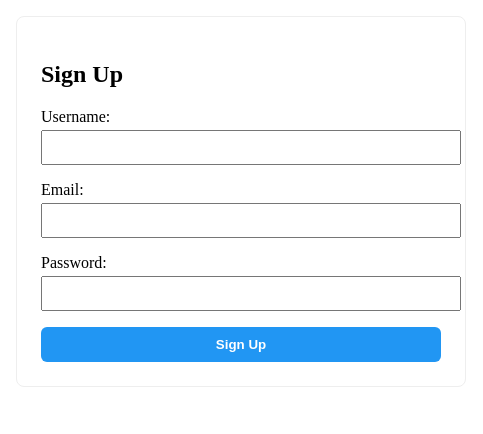
Scenario: Signup › shows error on signup failure
Type "user" into the field labelled "Username:". click: (251, 147)
box: [41,130,461,165]
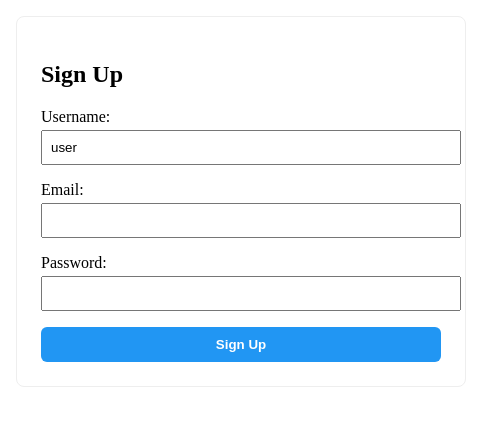
Type "a@b.com" into the field labelled "Email:". click: (251, 220)
box: [41,203,461,238]
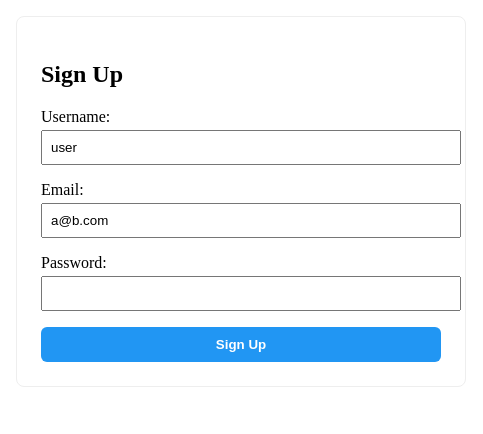
Type "pw" into the password field labelled "Password:". click: (251, 293)
box: [41,276,461,311]
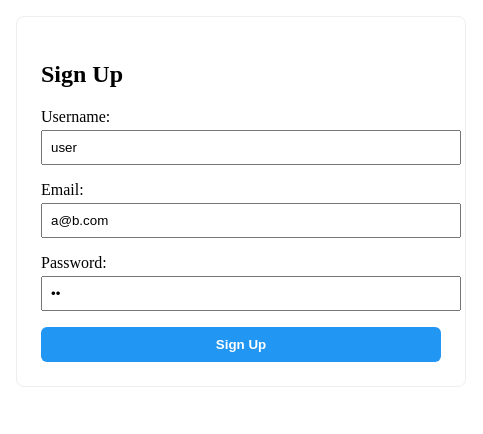
Click the button "Sign Up". click: (241, 344)
box: [41,327,441,362]
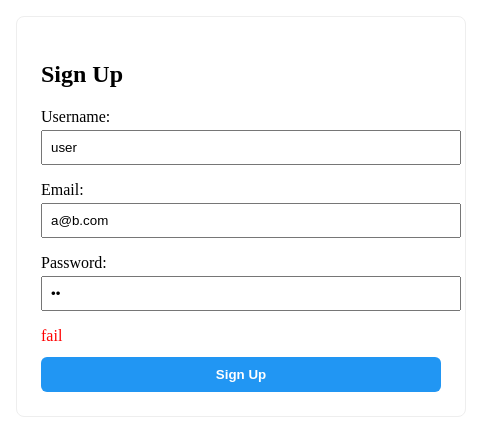
Now the text "fail" is shown, box [41,327,62,344]
